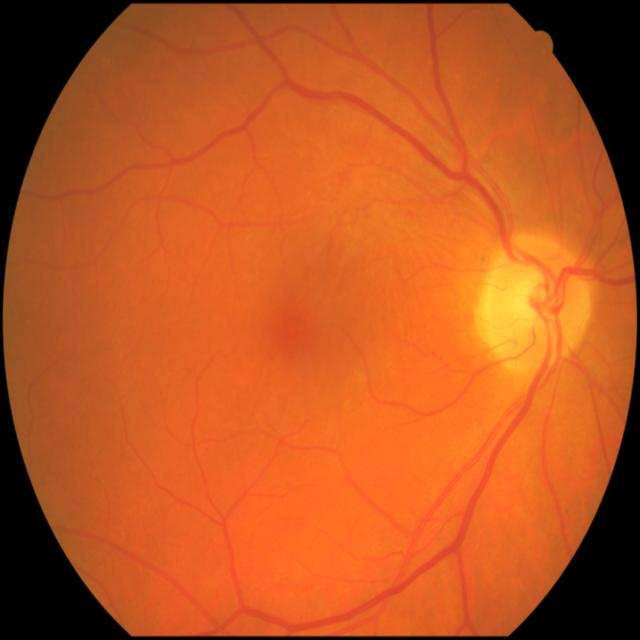OC: (512, 273, 545, 321)
OD: (474, 232, 595, 381)
